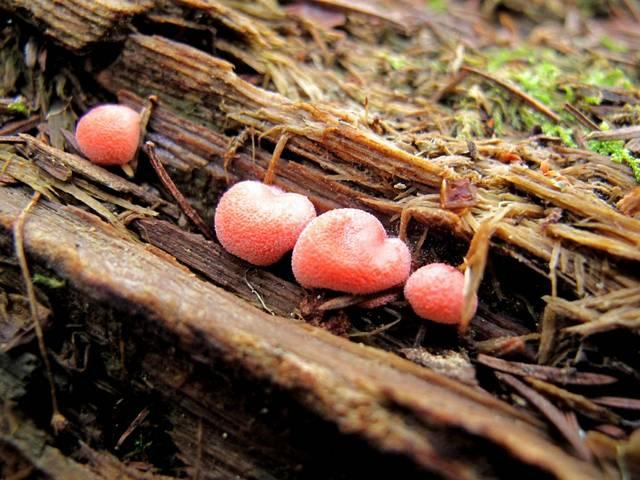poisonous_mushroom: (290, 206, 411, 295), (212, 178, 316, 266), (403, 261, 477, 325), (73, 102, 142, 166)
